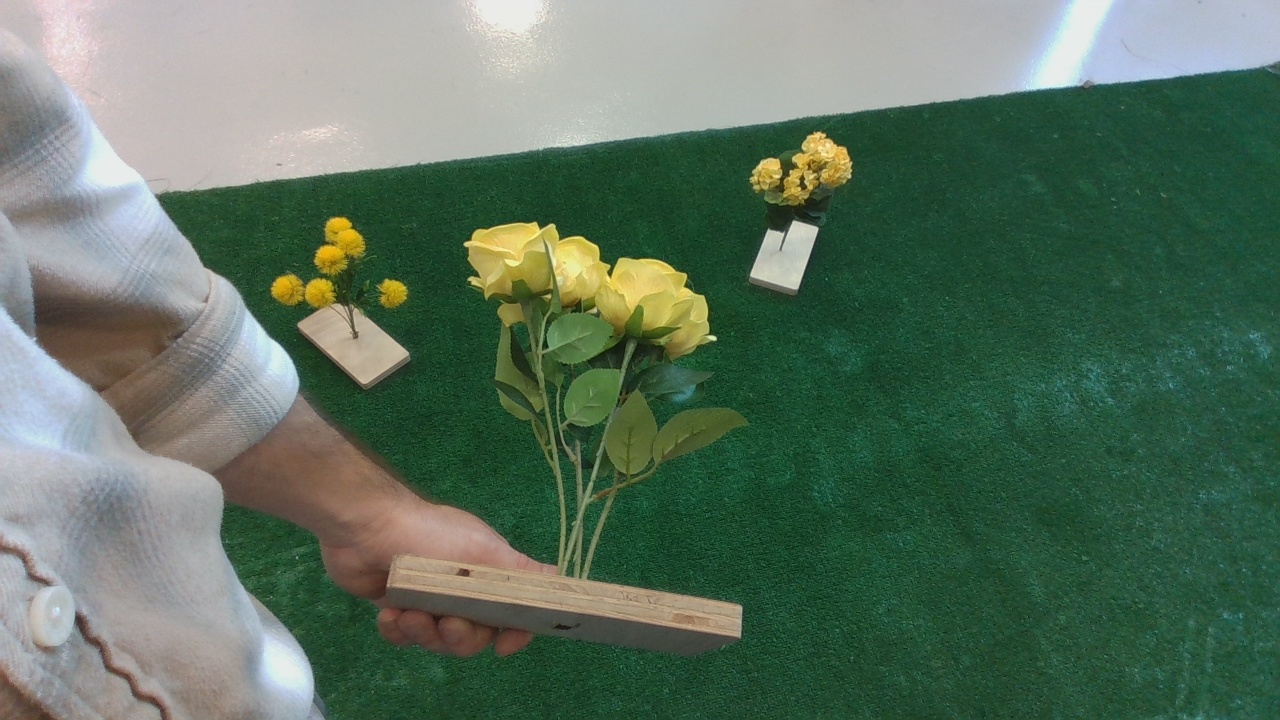dandelion: (273, 214, 439, 328)
geranium: (746, 132, 863, 245)
rose: (458, 207, 735, 505)
